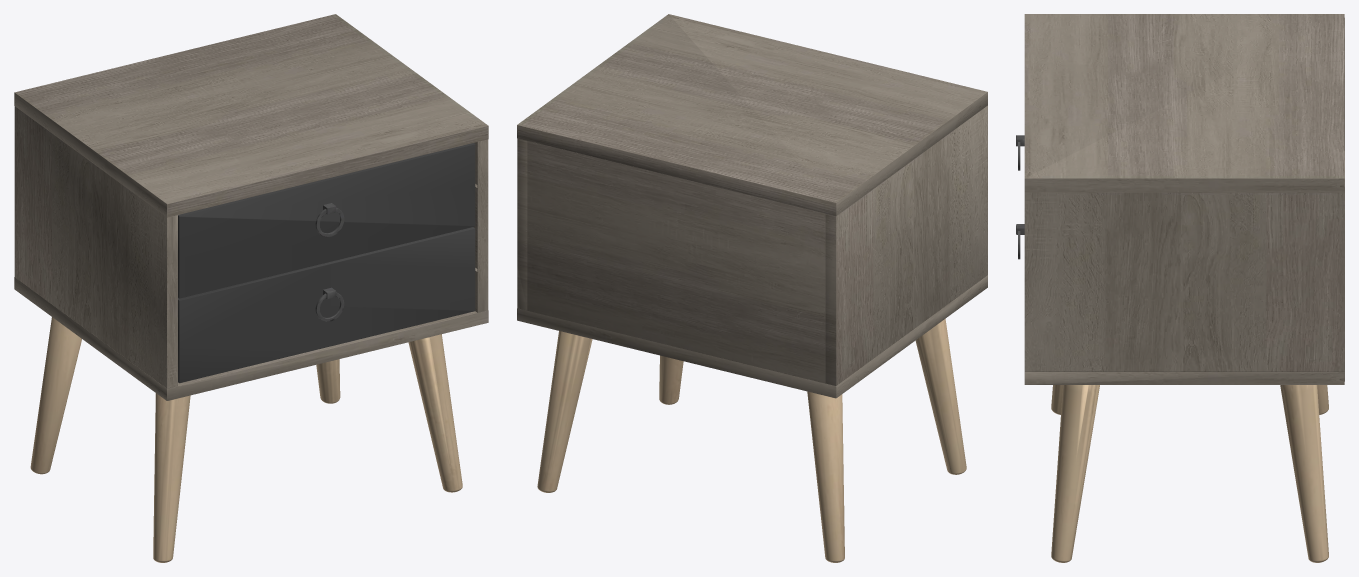
File: B07RNZC4TJ.glb
The picture shows the model from 3 angles, left to right: view 1: azimuth 30°, elevation 25°; view 2: azimuth 150°, elevation 25°; view 3: azimuth 270°, elevation 25°; orthographic projection. The views are drawn at different scales.
Parts seen in each view (by area): view 1: B07RNZC4TJ; view 2: B07RNZC4TJ; view 3: B07RNZC4TJ.
Boxes of the visible parts, left/top/right/bottom form: B07RNZC4TJ: left=14, top=14, right=488, bottom=562; B07RNZC4TJ: left=517, top=14, right=987, bottom=562; B07RNZC4TJ: left=1016, top=14, right=1344, bottom=562.
Size of the model in its own units: 0.45 by 0.5 by 0.38.
1 material, 1 textured.
